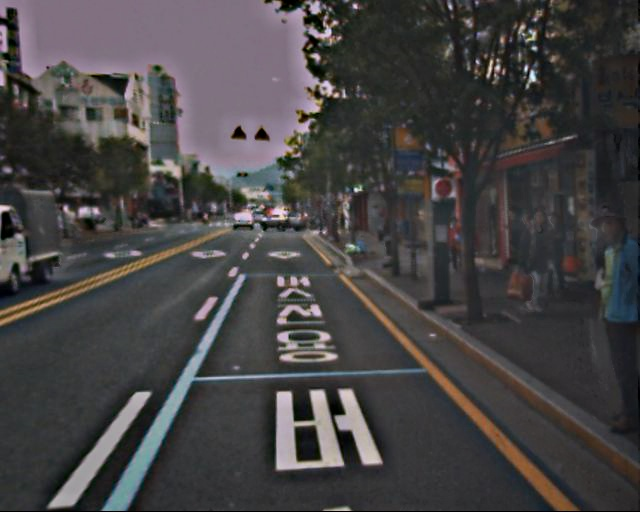person: (581, 211, 640, 420), (507, 207, 565, 306), (379, 217, 397, 260)
